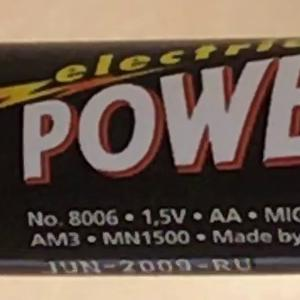1,5V: (134, 200, 195, 233)
